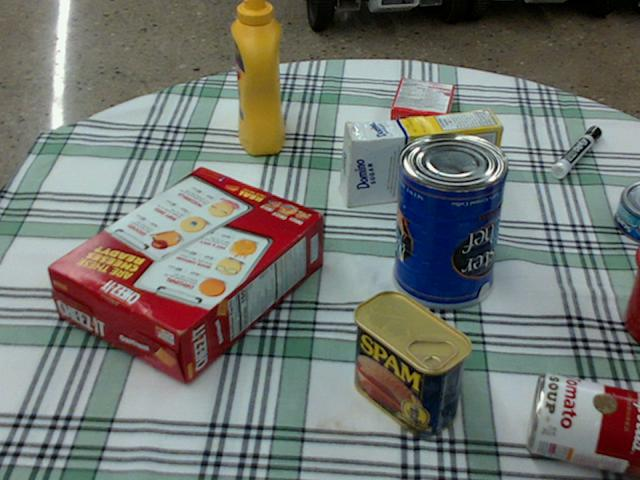cracker_box: (48, 168, 321, 382)
gelatin_box: (390, 77, 453, 133)
large_marker: (550, 126, 601, 177)
master_chef_can: (392, 132, 510, 307)
mug: (623, 245, 639, 344)
mustard_bottle: (230, 0, 283, 153)
potted_meat_can: (353, 290, 471, 434)
sugar_box: (340, 109, 502, 208)
tomato_soup_can: (527, 372, 639, 477)
tuna_fish_can: (615, 181, 639, 242)
